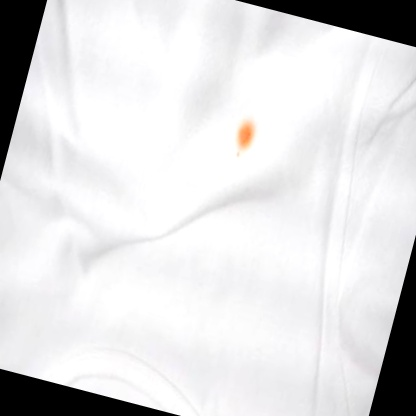kimchi: (224, 114, 261, 165)
